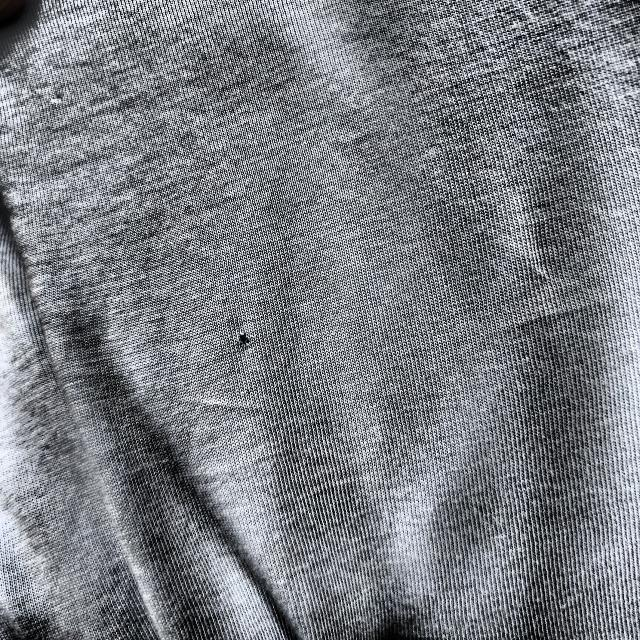cut: (229, 328, 259, 355)
